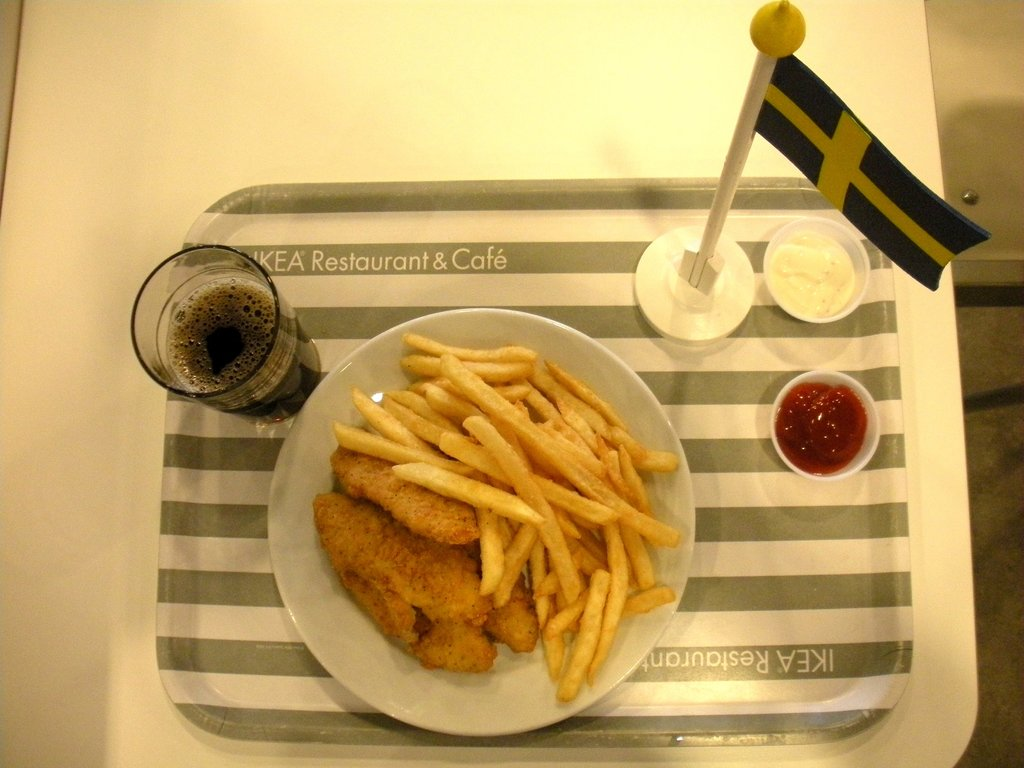French fries: (316, 326, 674, 723)
